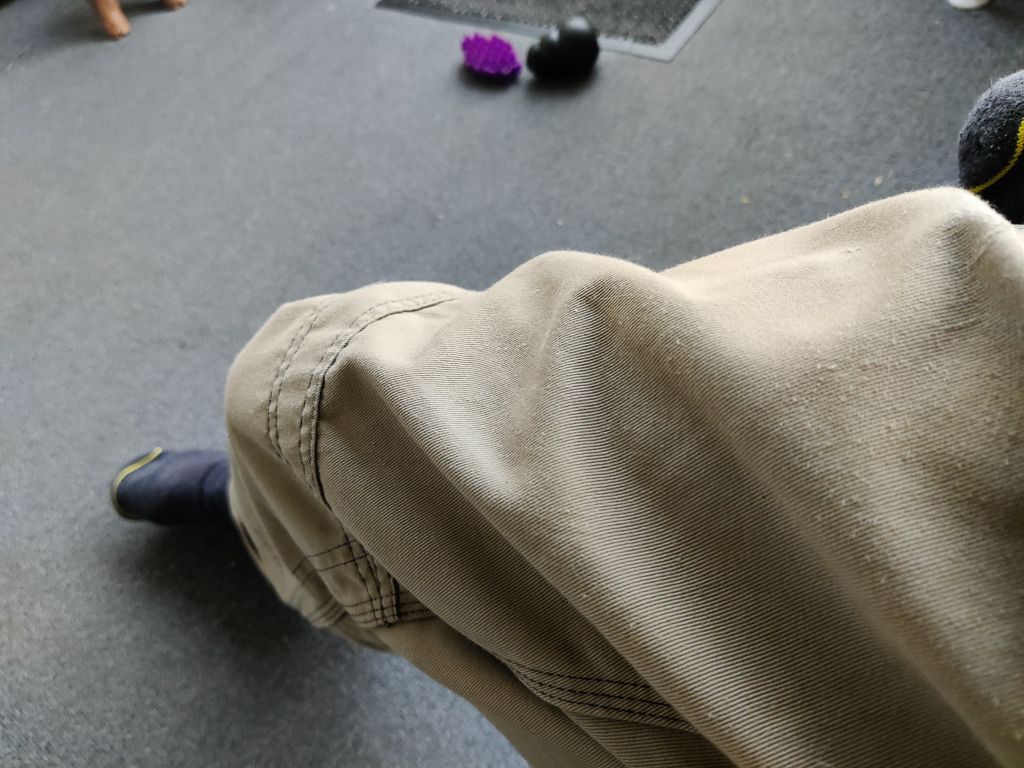Cattle: (62, 0, 201, 47)
Humanoid: (103, 60, 1024, 768)
